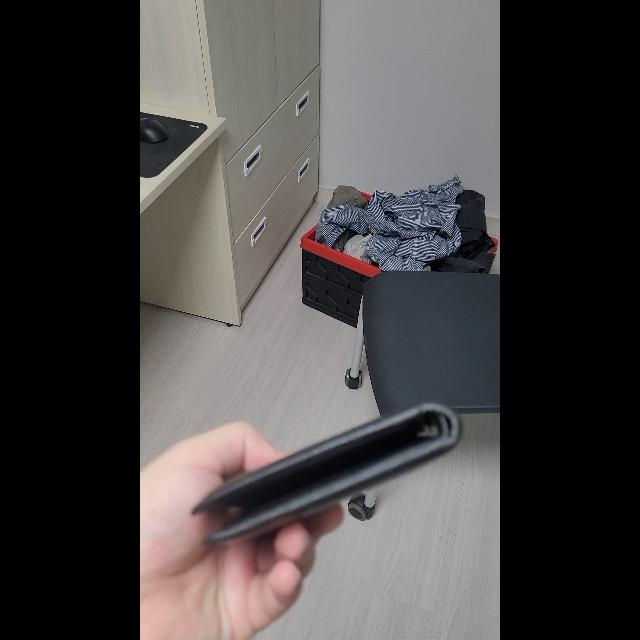WALLET: (190, 402, 464, 546)
